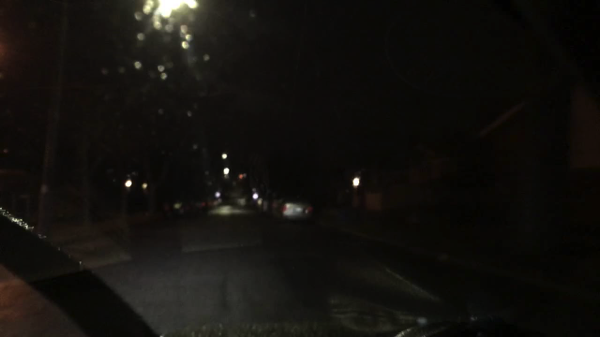car: (157, 192, 209, 219), (272, 198, 314, 220), (236, 188, 259, 208), (205, 188, 223, 206)
